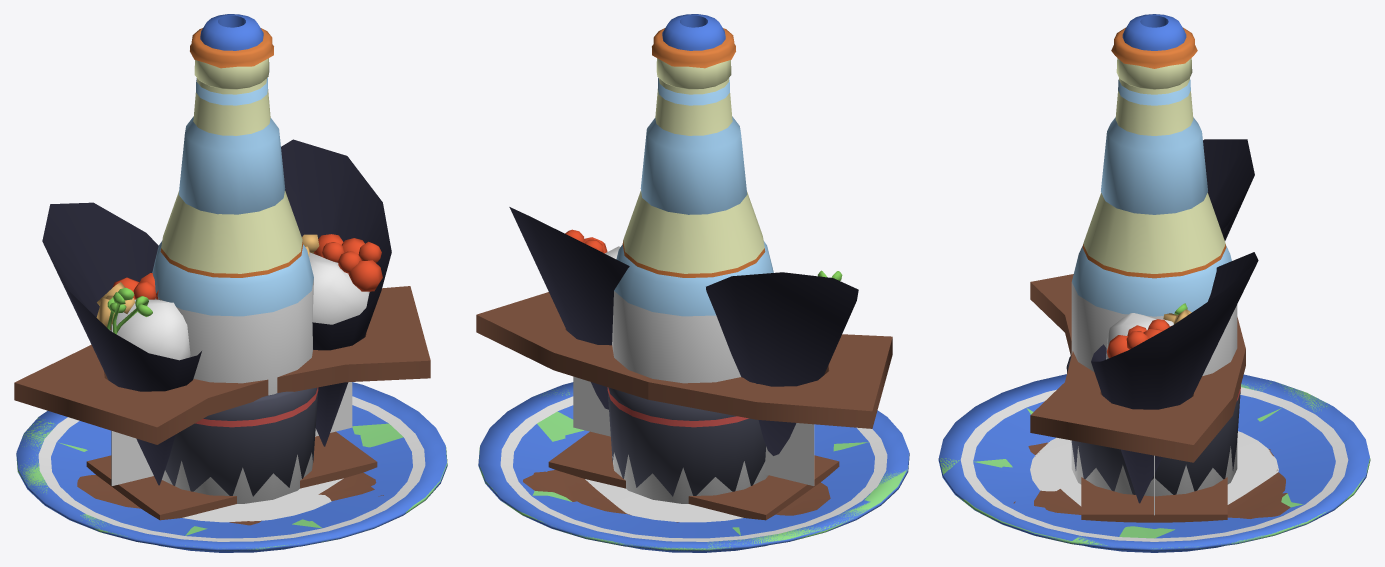
The model's file is obj0523 on rail obj.fbx.
3 renders of one model, left to right at view 1: azimuth 30°, elevation 25°; view 2: azimuth 150°, elevation 25°; view 3: azimuth 270°, elevation 25°, orthographic.
Parts seen in each view (by area): view 1: demaki, ramune, dish, bottle, miso, dish dirty, sign; view 2: demaki, ramune, dish, bottle, miso, dish dirty, sign; view 3: demaki, dish, ramune, bottle, dish dirty, miso.
Boxes of the visible parts, x1,y1,x2,y2 form: demaki: (14, 139, 430, 520); ramune: (152, 14, 313, 503); dish: (16, 382, 447, 552); bottle: (160, 28, 303, 277); miso: (165, 387, 318, 496); dish dirty: (16, 397, 447, 550); sign: (111, 324, 352, 485); demaki: (476, 207, 892, 520); ramune: (612, 14, 773, 503); dish: (478, 382, 909, 552); bottle: (622, 28, 765, 277); miso: (607, 387, 765, 496); dish dirty: (479, 389, 908, 550); sign: (573, 376, 814, 485); demaki: (1030, 139, 1258, 522); dish: (938, 374, 1369, 552); ramune: (1071, 14, 1237, 496); bottle: (1082, 27, 1226, 278); dish dirty: (939, 382, 1370, 550); miso: (1066, 356, 1240, 494).
Size of the model in its own units: 1.57 by 1.77 by 1.48.
